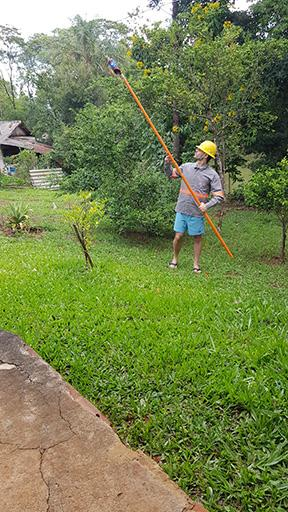Capacete: (194, 140, 216, 167)
Detector_Tensao_Contato: (106, 54, 124, 76)
Vara_Manobra: (121, 71, 233, 259)
